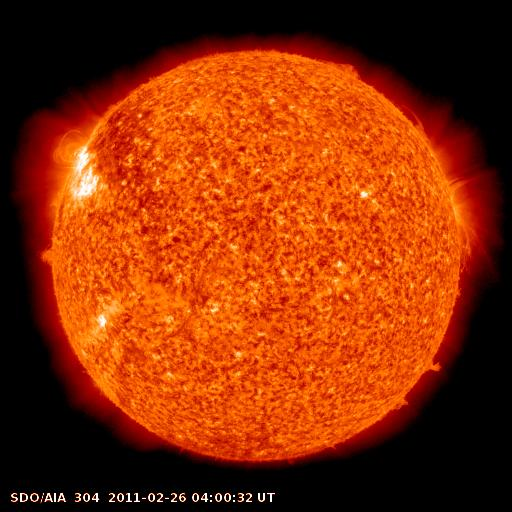prominence: (309, 50, 370, 86), (394, 101, 436, 147), (381, 384, 421, 423), (31, 237, 66, 278), (416, 349, 455, 385)
